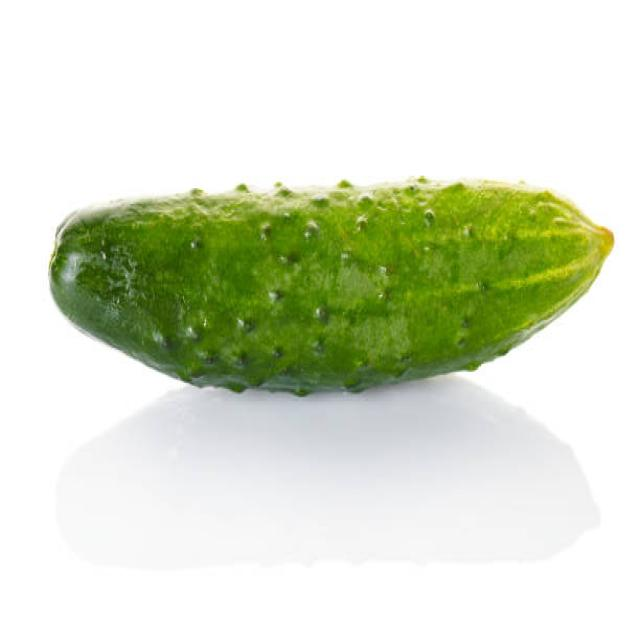cucumber: (48, 177, 615, 393)
